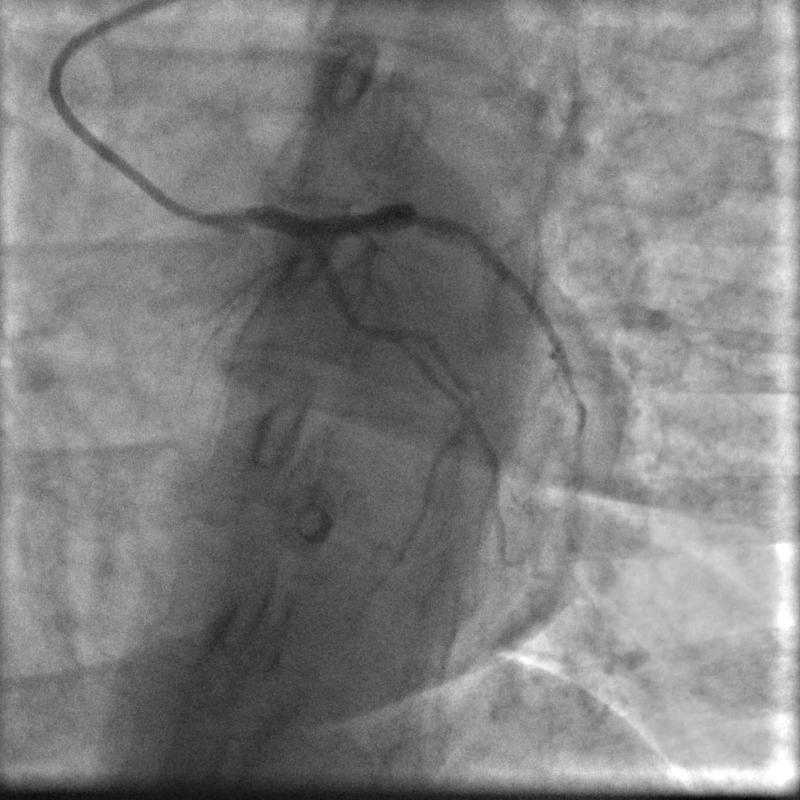Stenosis: (343, 298, 394, 343)
